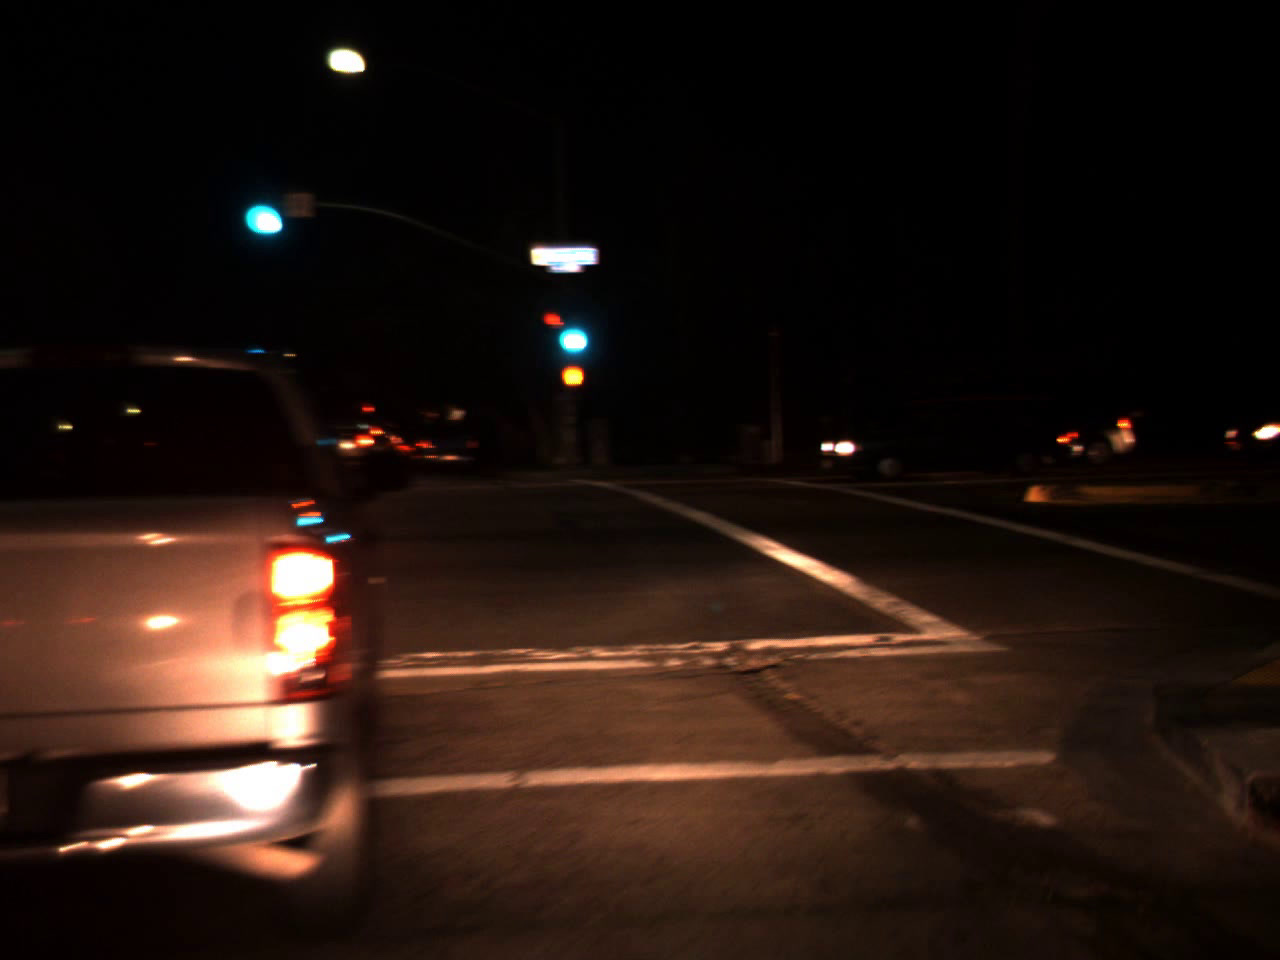go: (237, 169, 289, 247), (546, 297, 594, 363)
